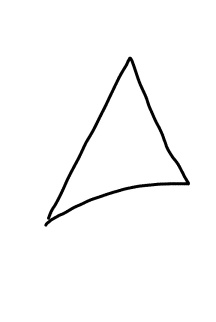Triangle: (41, 53, 193, 230)
